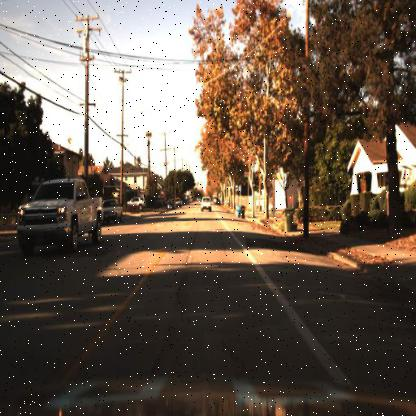car: (17, 177, 103, 261), (100, 196, 123, 228), (125, 193, 149, 212), (164, 198, 176, 215), (200, 196, 212, 212)
